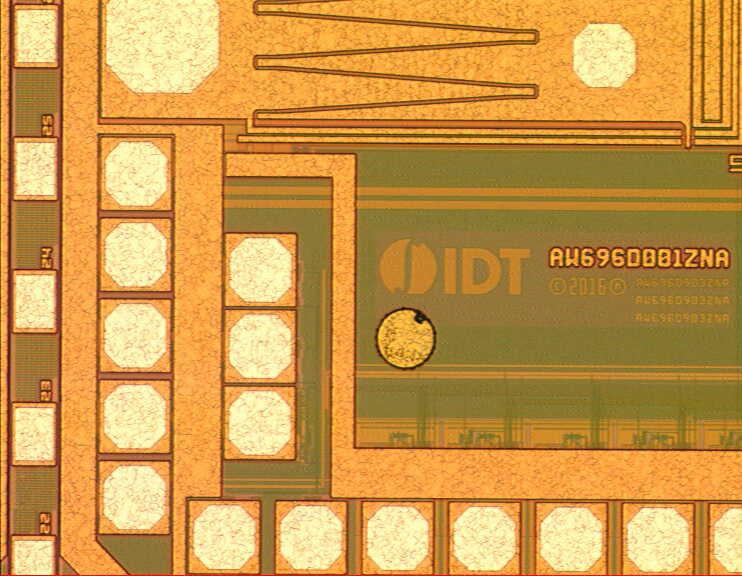COATING BAD: (368, 302, 444, 378)
